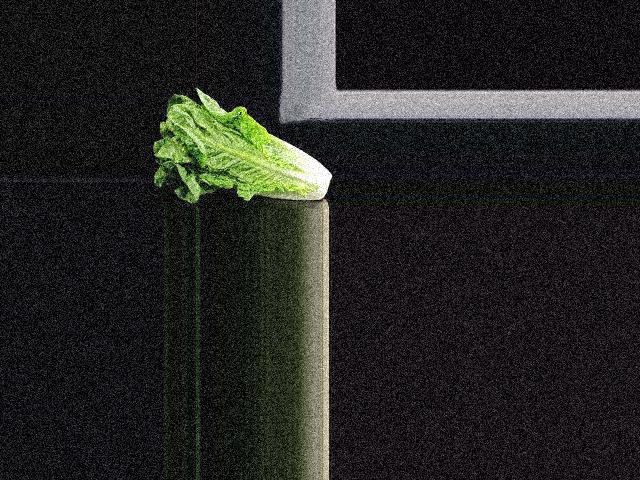lettuce: (159, 95, 329, 196)
